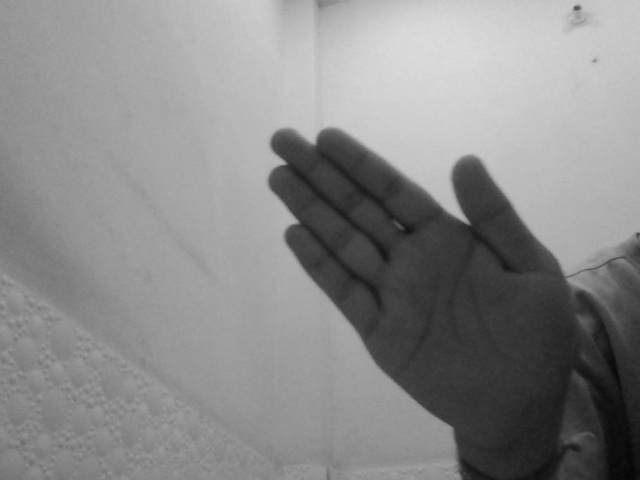Hello: (265, 121, 576, 459)
